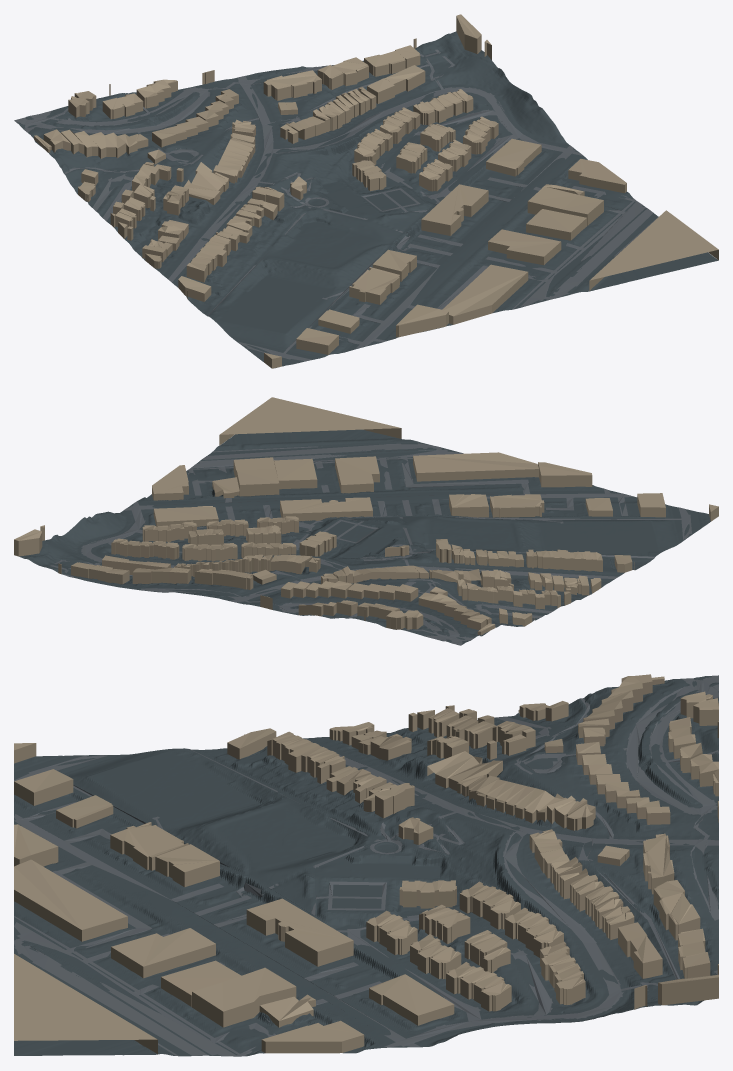
File: epsg26910-1443-10877.lod0.glb
3 views of the same model, one above another, from view 1: azimuth 30°, elevation 25°; view 2: azimuth 150°, elevation 25°; view 3: azimuth 270°, elevation 25° (orthographic). The views are drawn at different scales.
Parts seen in each view (by area): view 1: epsg26910-1443-10877-lod0; view 2: epsg26910-1443-10877-lod0; view 3: epsg26910-1443-10877-lod0.
Boxes of the visible parts, box(x1,y1,x2,y2) form: epsg26910-1443-10877-lod0: box(14, 14, 718, 368); epsg26910-1443-10877-lod0: box(14, 397, 718, 645); epsg26910-1443-10877-lod0: box(14, 674, 718, 1056).
Size of the model in its own units: 384 by 60.7 by 384.
